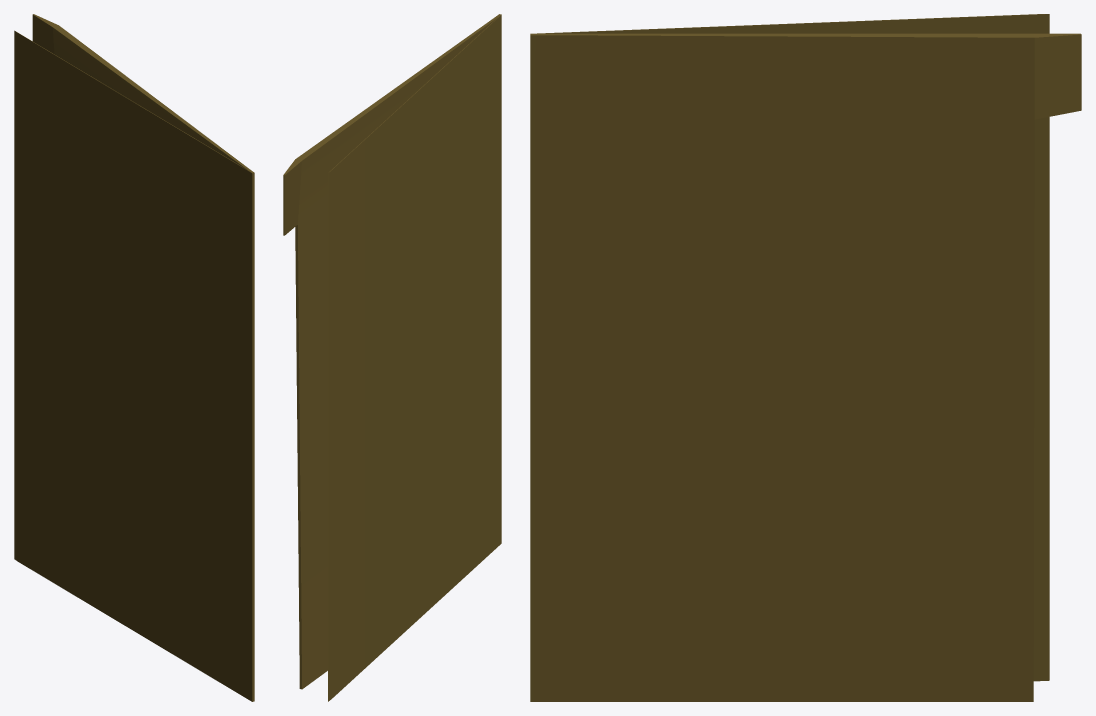
3 renders of one model, left to right at view 1: azimuth 30°, elevation 25°; view 2: azimuth 150°, elevation 25°; view 3: azimuth 270°, elevation 25°, orthographic. The views are drawn at different scales.
Parts seen in each view (by area): view 1: file; view 2: file; view 3: file.
Part boxes in pixels (x1,y1,x2,y2): file: (14, 14, 254, 701); file: (283, 14, 501, 701); file: (530, 14, 1081, 701).
Bounding box in the file's own units: 0.2168 × 2.83 × 2.12.
